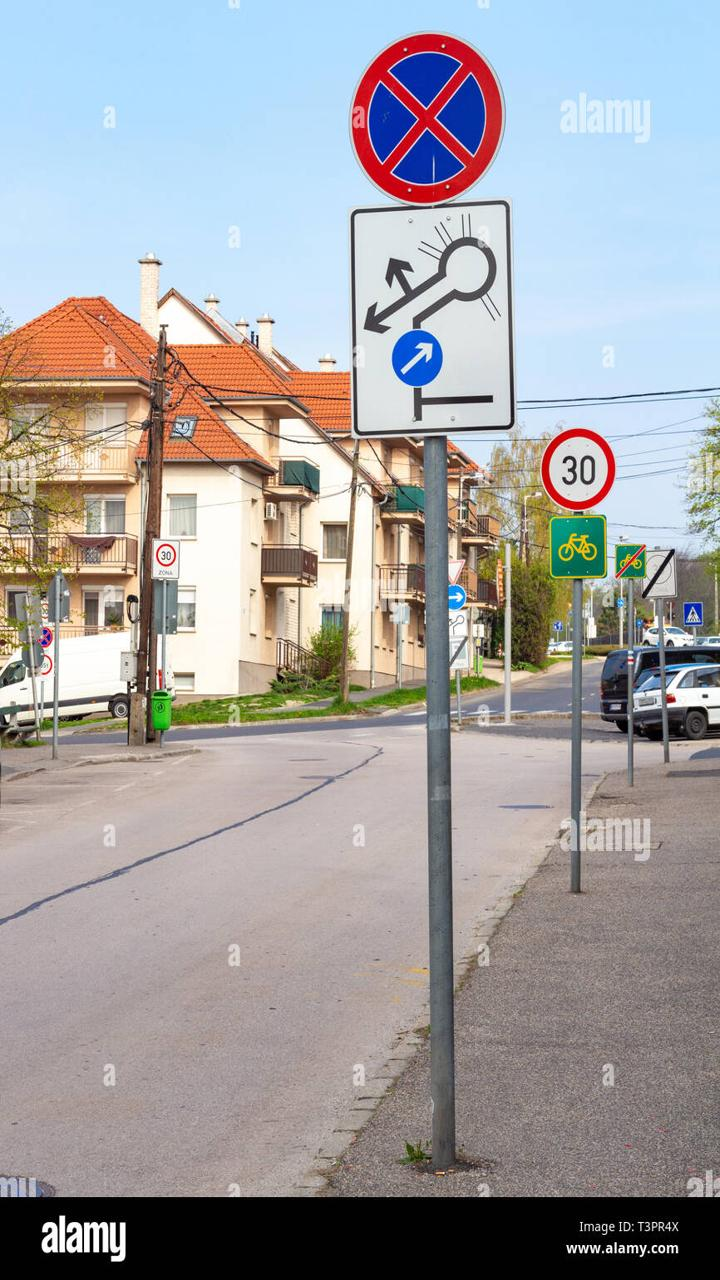Traffic sign: (340, 21, 507, 208), (510, 376, 648, 507), (521, 481, 630, 597), (127, 507, 199, 604), (29, 596, 101, 693)
vehicle: (582, 635, 720, 722)
